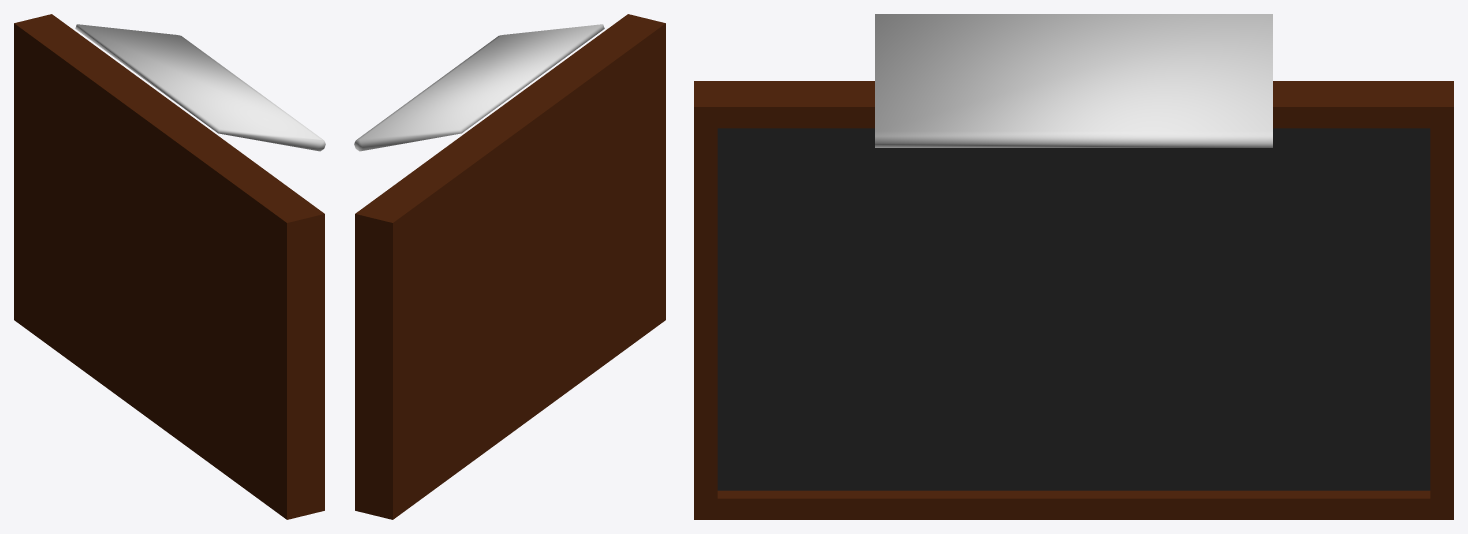
Rendered from InfoSigns.fbx.
The picture shows the model from 3 angles, left to right: view 1: azimuth 30°, elevation 25°; view 2: azimuth 150°, elevation 25°; view 3: azimuth 270°, elevation 25°; orthographic projection. The views are drawn at different scales.
Visible parts, largest first — view 1: Sign Base, Sign Light; view 2: Sign Base, Sign Light; view 3: Sign Base, Sign Light.
Part boxes in pixels (box(x1,y1,x2,y2)): Sign Base: box(14, 14, 324, 519); Sign Light: box(75, 24, 325, 151); Sign Base: box(355, 14, 665, 519); Sign Light: box(354, 24, 604, 151); Sign Base: box(694, 81, 1453, 519); Sign Light: box(875, 14, 1272, 147).
Size of the model in its own units: 0.5693 by 1.74 by 2.5.
